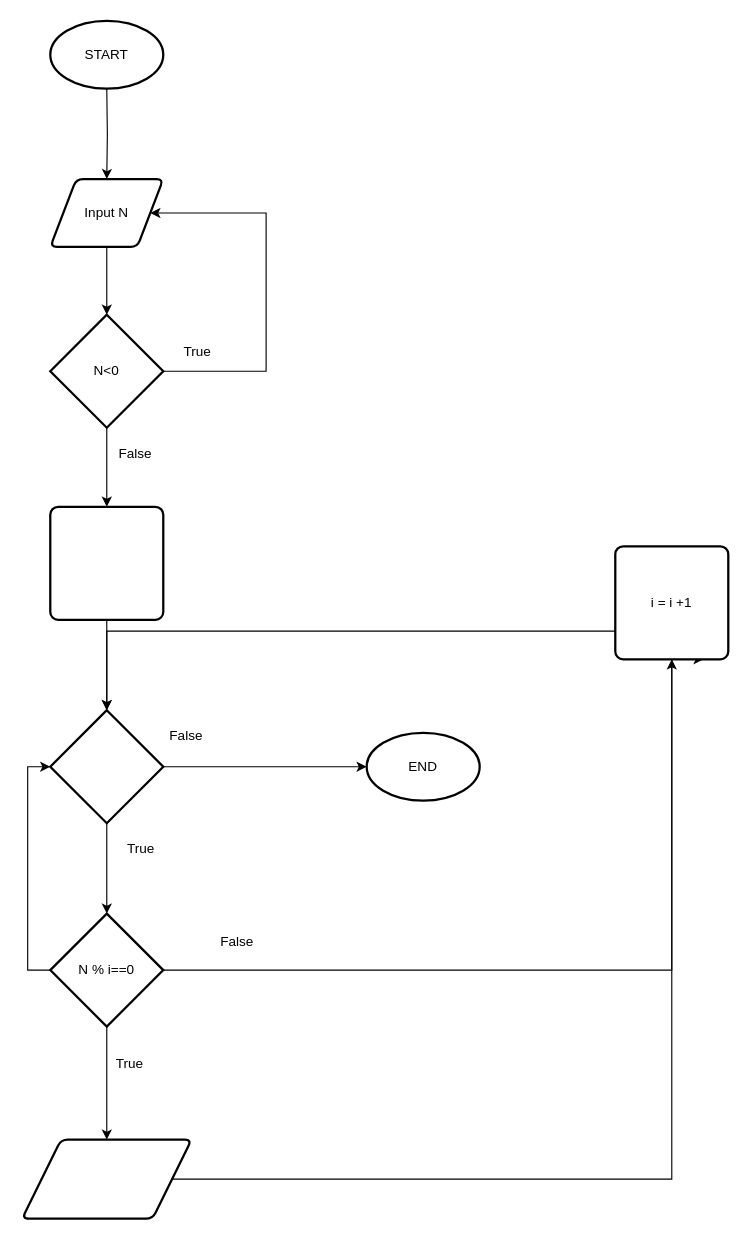
The diagram is 749 pixels wide and 1238 high, and some of its shapes have lost their labels. The shapes that lost their labels are listed below. From the top down, each one's centre as x and y in pixels, then its label:
(106,562): int i=1
(106,766): i <= N
(106,1178): print("i là ước của N")
